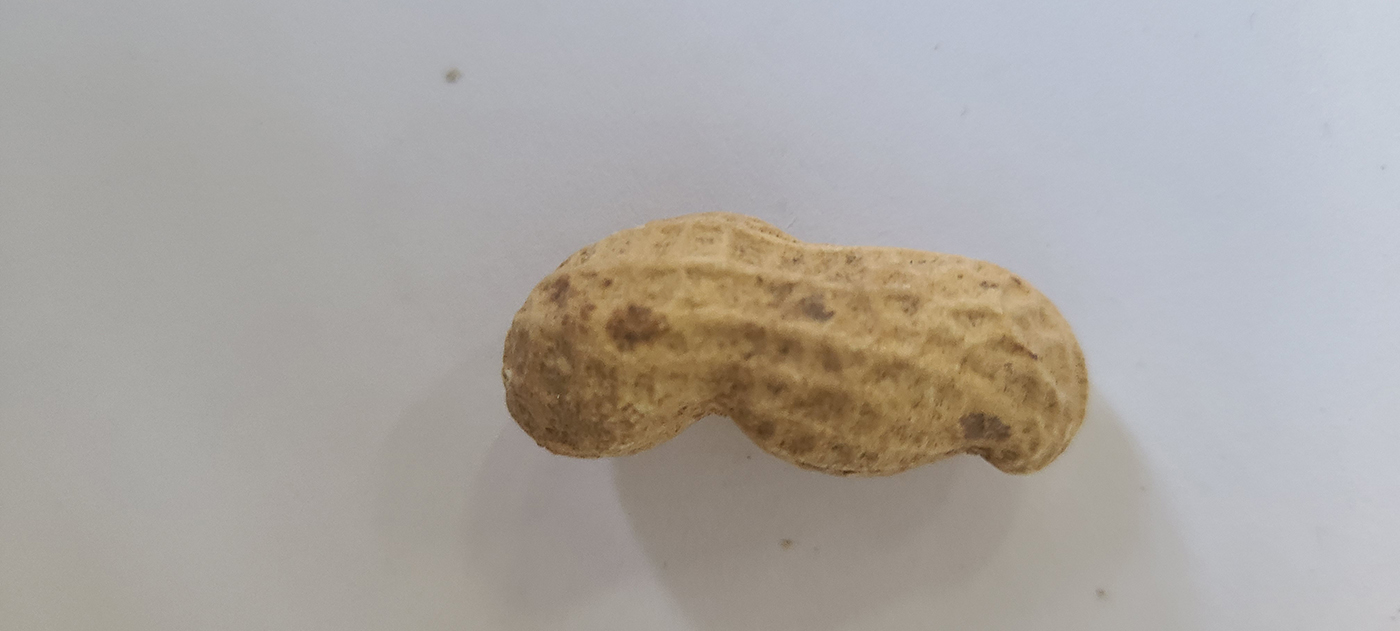h: (497, 210, 1091, 481)
